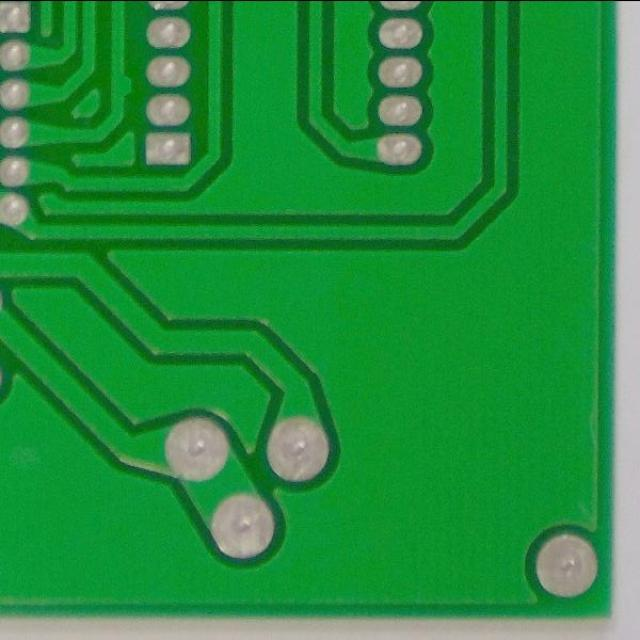spur: (108, 65, 138, 107)
